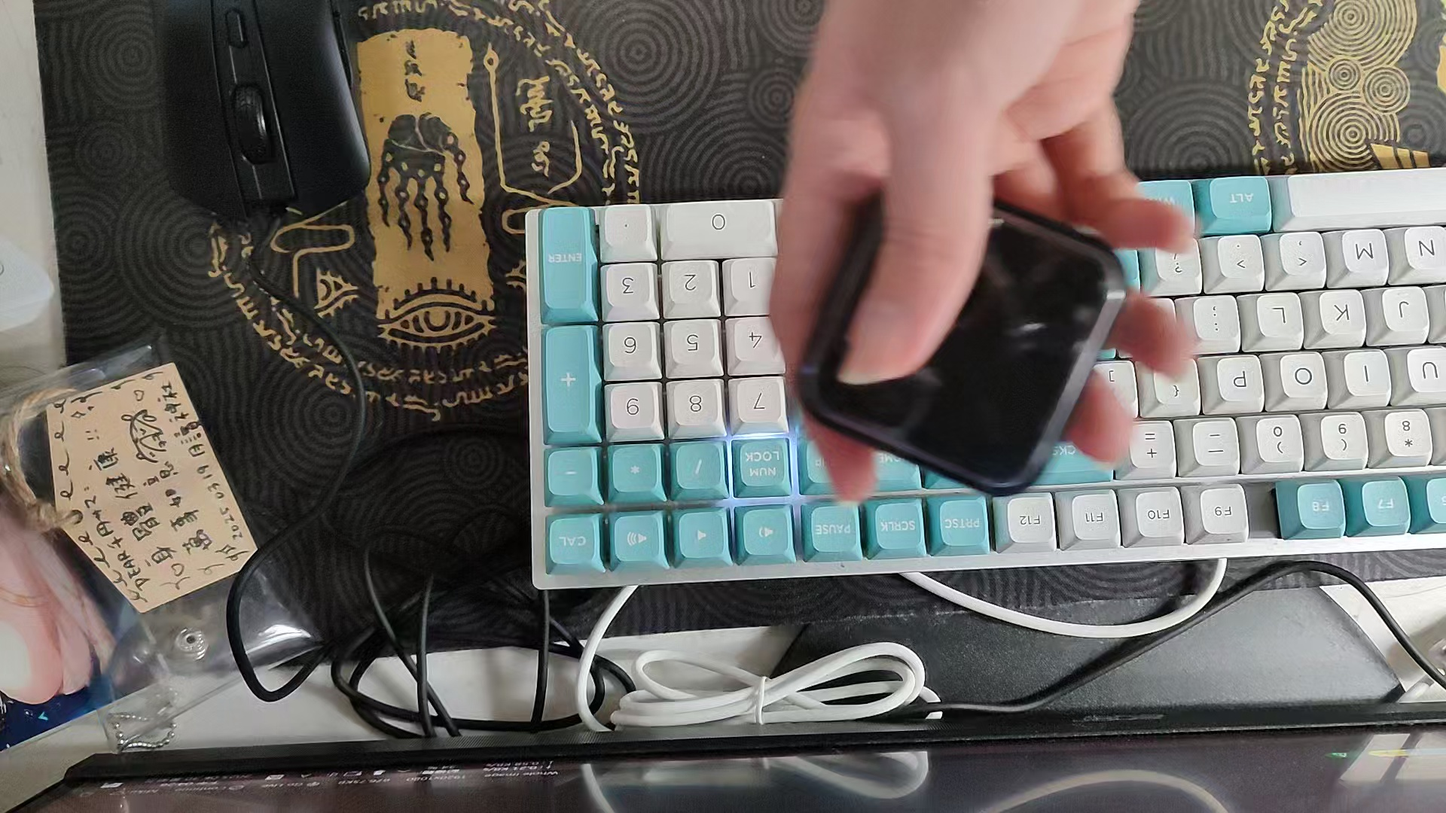Wireless_earphone: (790, 171, 1131, 497)
